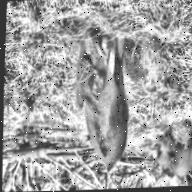boar: (69, 30, 145, 179), (140, 127, 192, 182)
